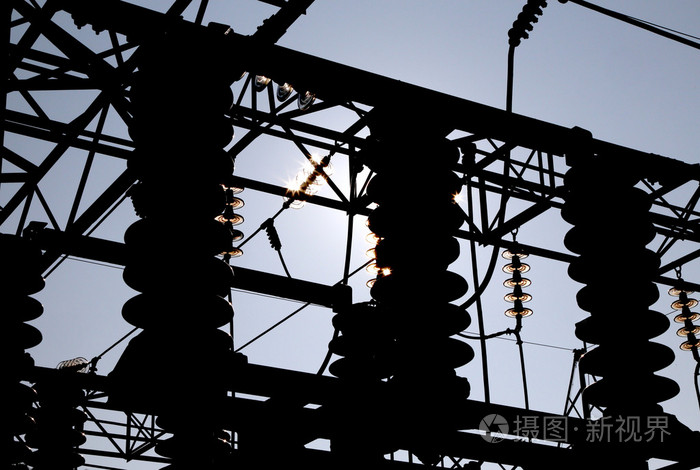insulator: (215, 179, 250, 260), (282, 154, 334, 208), (502, 249, 538, 321), (665, 285, 700, 347)
